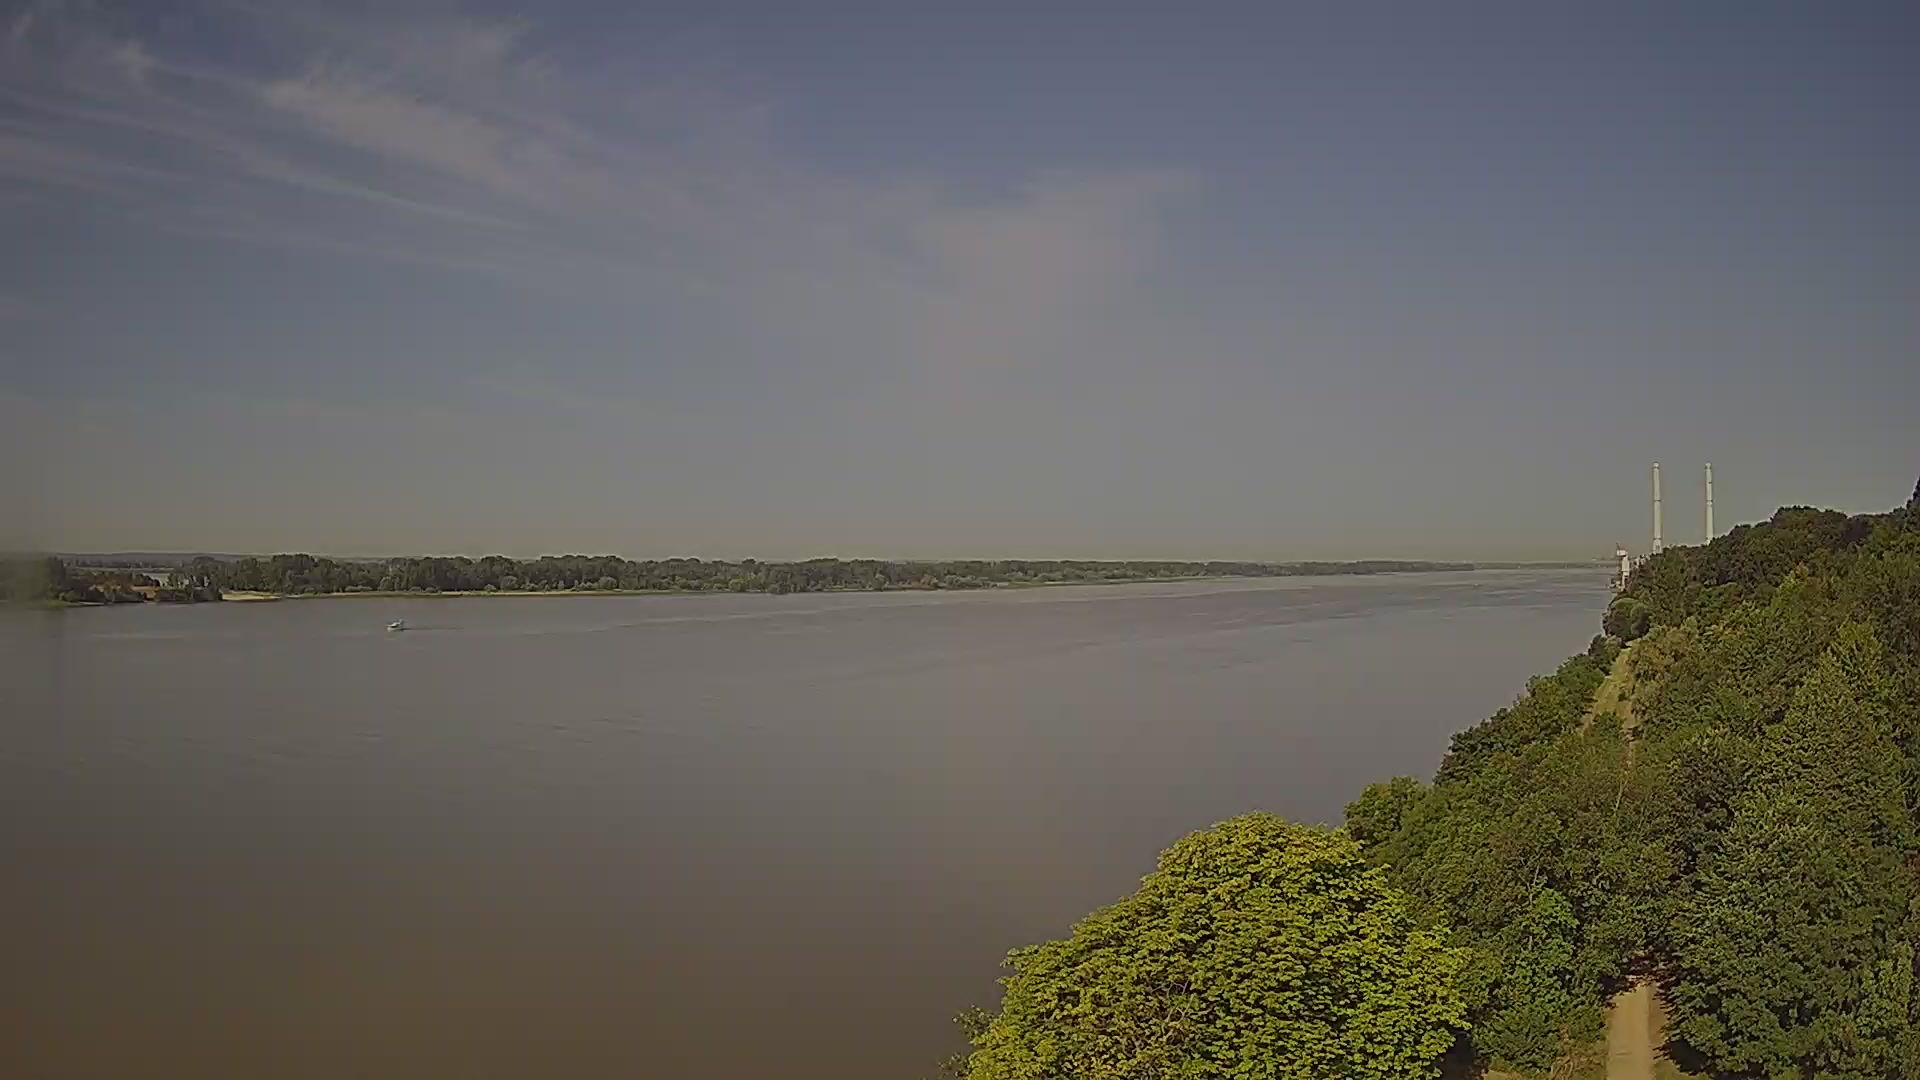sea: (386, 617, 405, 632)
